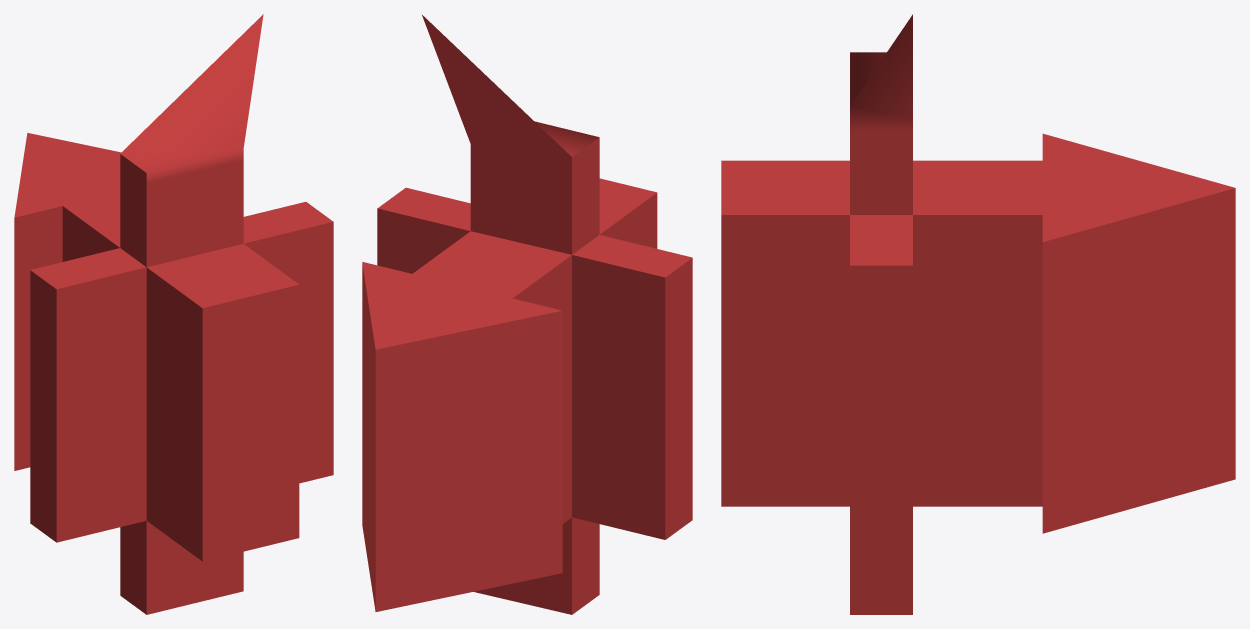
The model's file is Glühweini.fbx.
The picture shows the model from 3 angles, left to right: view 1: azimuth 30°, elevation 25°; view 2: azimuth 150°, elevation 25°; view 3: azimuth 270°, elevation 25°; orthographic projection. The views are drawn at different scales.
Parts seen in each view (by area): view 1: FancyFeil; view 2: FancyFeil; view 3: FancyFeil.
Boxes of the visible parts, bbox=[...] form: FancyFeil: bbox=[14, 14, 333, 614]; FancyFeil: bbox=[362, 15, 692, 614]; FancyFeil: bbox=[721, 14, 1235, 614].
Size of the model in its own units: 57.2 by 108 by 80.
